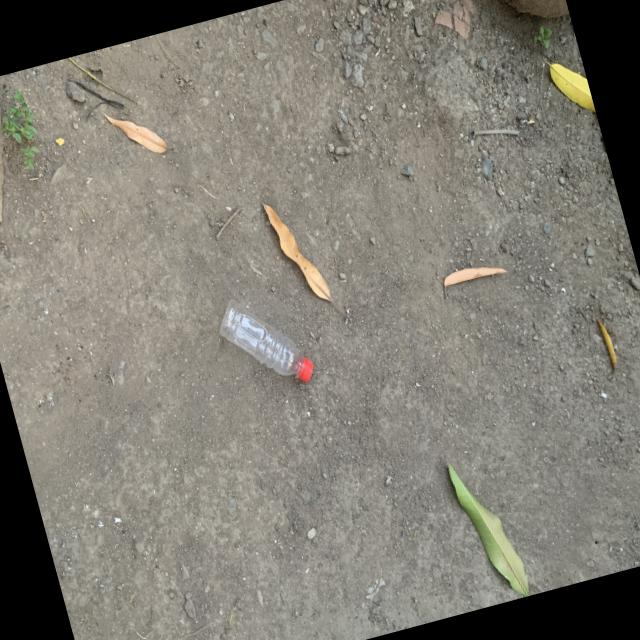Bottle: (219, 300, 313, 381)
